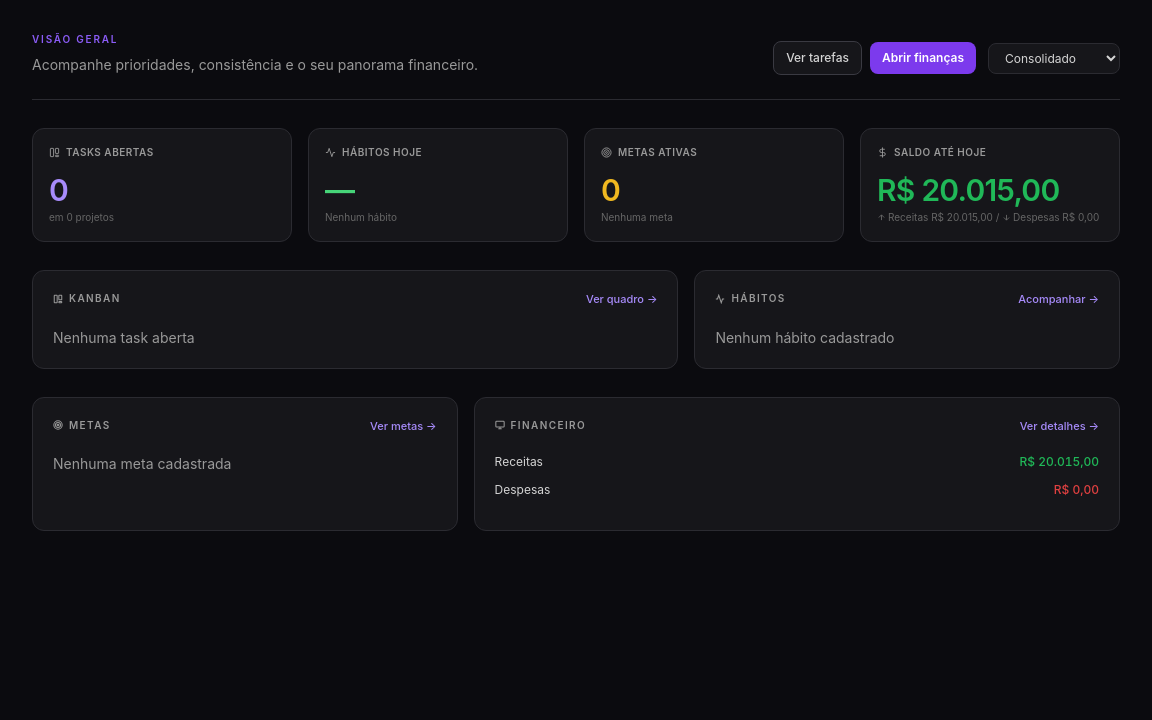
Test: Tabela financeira da Home › exibe o valor nativo da tabela em ienes mesmo com câmbio disponível
The width and height of the screenshot is (1152, 720).
Step 1. Select "Reserva" in the dropdown named "Tabela financeira do dashboard" → (1054, 58), box [988,42,1120,74]
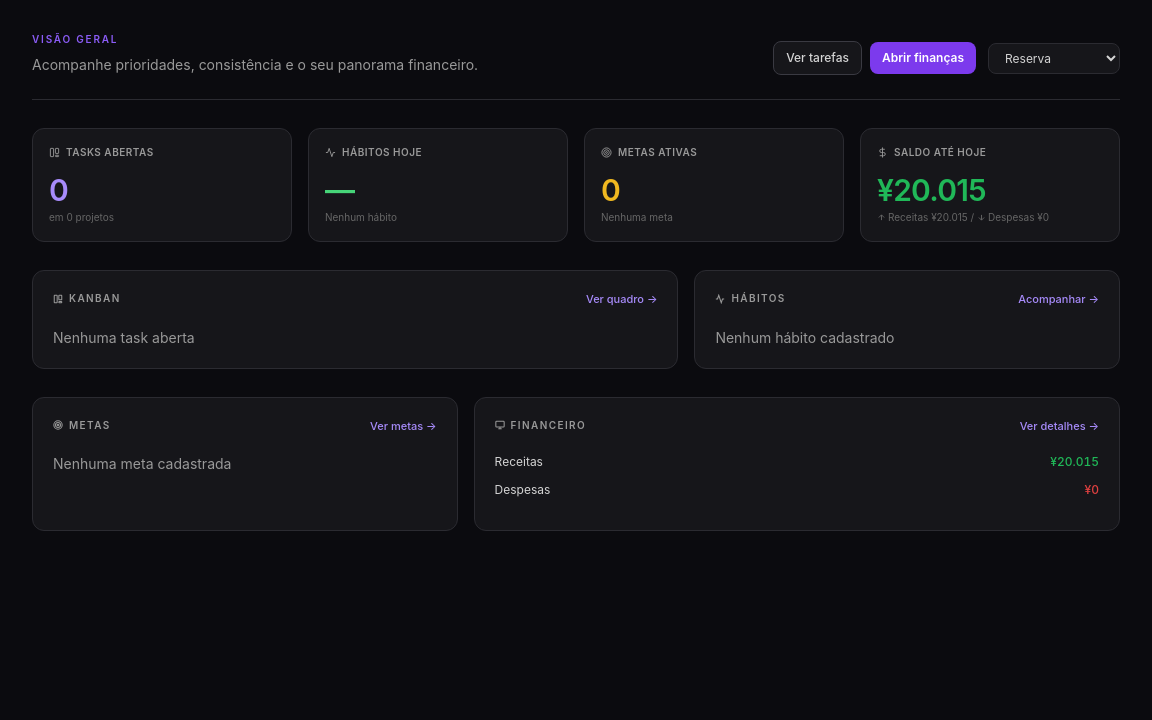
Result: the text "¥20.015" below "Saldo até hoje" is shown at [877,172,986,208]
